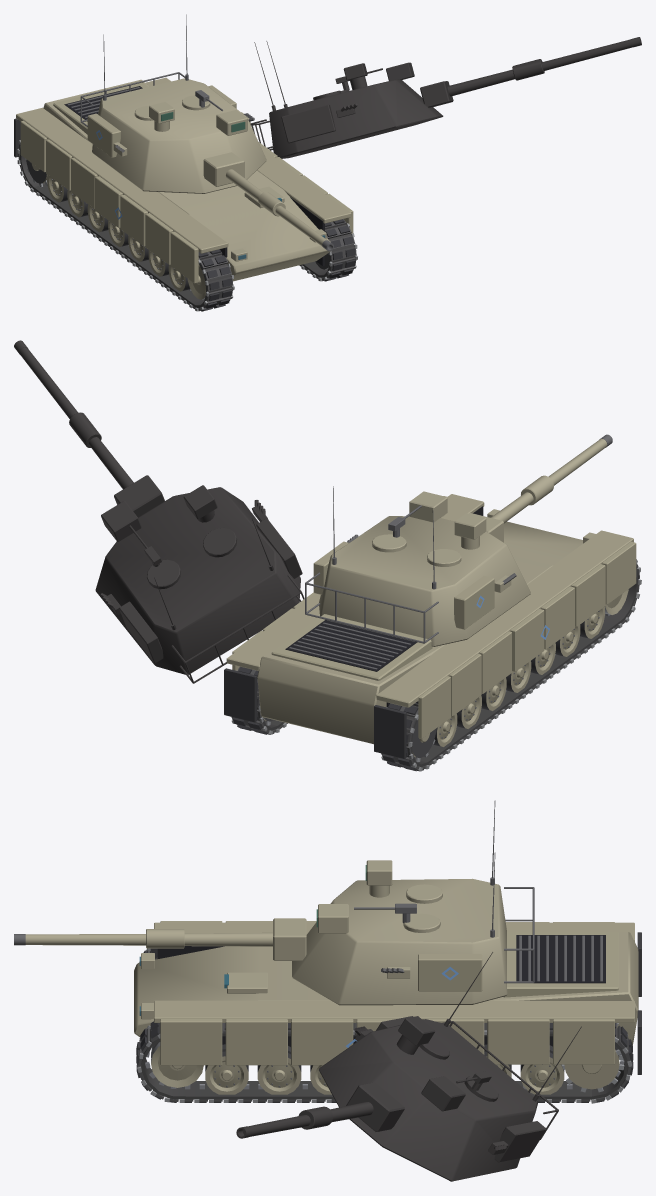
Rendered from tank__ariete_c2.glb.
3 views of the same model, one above another, from view 1: azimuth 30°, elevation 25°; view 2: azimuth 150°, elevation 25°; view 3: azimuth 270°, elevation 25° (orthographic). The views are drawn at different scales.
Parts seen in each view (by area): view 1: Hull_Mesh, Turret_Mesh, Wreck, Track_L_Mesh, Gun_Mesh, Track_R_Mesh, Gunner_Sight_Mesh, CITV_Mesh; view 2: Hull_Mesh, Wreck, Turret_Mesh, Track_L_Mesh, Gun_Mesh, Gunner_Sight_Mesh, CITV_Mesh, Track_R_Mesh; view 3: Hull_Mesh, Wreck, Turret_Mesh, Track_R_Mesh, Gun_Mesh, Sprocket_R_Mesh, Wheel_R6_Mesh, Wheel_R5_Mesh, Wheel_R0_Mesh, Idler_R_Mesh, Gunner_Sight_Mesh, CITV_Mesh (+2 smaller).
Boxes of the visible parts, x1,y1,x2,y2 form: Hull_Mesh: (14,77,353,283); Turret_Mesh: (80,72,266,193); Wreck: (39,37,641,186); Track_L_Mesh: (17,140,234,311); Gun_Mesh: (203,152,333,251); Track_R_Mesh: (299,219,357,281); Gunner_Sight_Mesh: (216,110,247,135); CITV_Mesh: (149,102,174,131); Hull_Mesh: (224,494,636,758); Wreck: (14,340,304,683); Turret_Mesh: (305,516,530,646); Track_L_Mesh: (381,559,641,771); Gun_Mesh: (469,434,612,542); Gunner_Sight_Mesh: (409,491,447,522); CITV_Mesh: (454,513,486,549); Track_R_Mesh: (231,666,287,734); Hull_Mesh: (134,921,641,1074); Wreck: (236,952,581,1181); Turret_Mesh: (292,878,534,1005); Track_R_Mesh: (136,1021,633,1103); Gun_Mesh: (14,918,306,960); Sprocket_R_Mesh: (561,1046,624,1092); Wheel_R6_Mesh: (205,1044,248,1094); Wheel_R5_Mesh: (257,1046,301,1094); Wheel_R0_Mesh: (520,1045,564,1094); Idler_R_Mesh: (151,1041,203,1087); Gunner_Sight_Mesh: (316,904,348,933); CITV_Mesh: (365,860,392,897).
Size of what is drawn, in the model's own units: 11.21 by 3.97 by 9.79.
